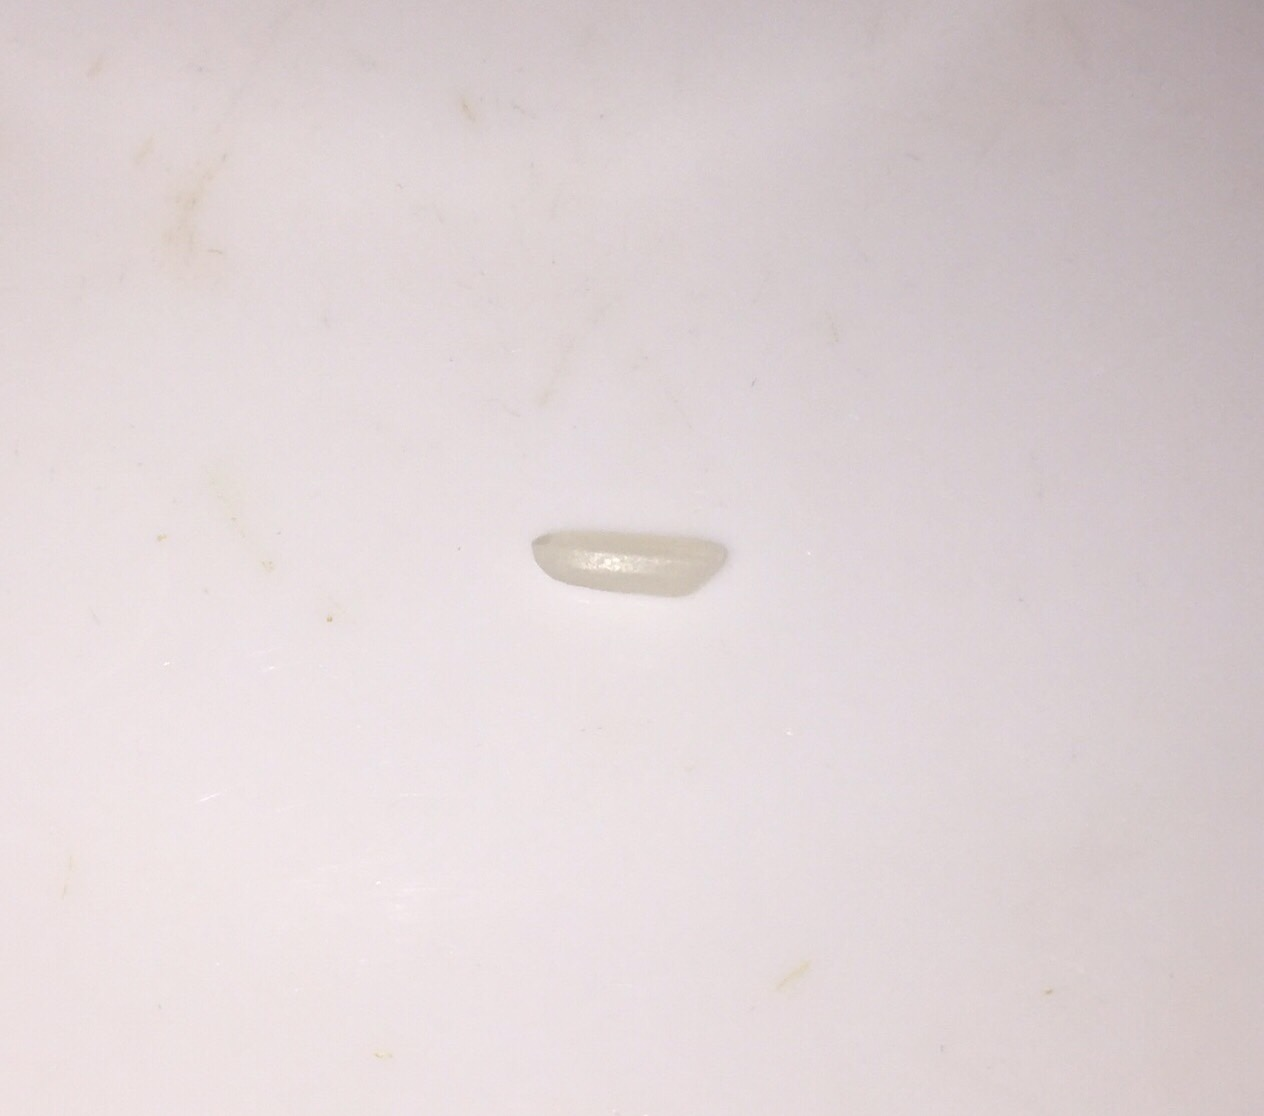Gao Ngoc Troi: (501, 504, 748, 610)
